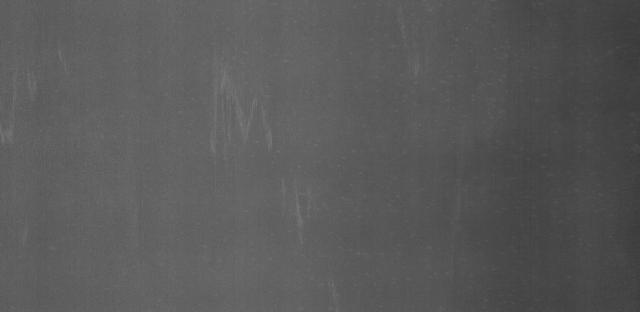silk_spot: (199, 69, 295, 162), (286, 184, 330, 241)
